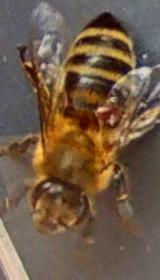varroa_mite: (86, 93, 133, 138)
